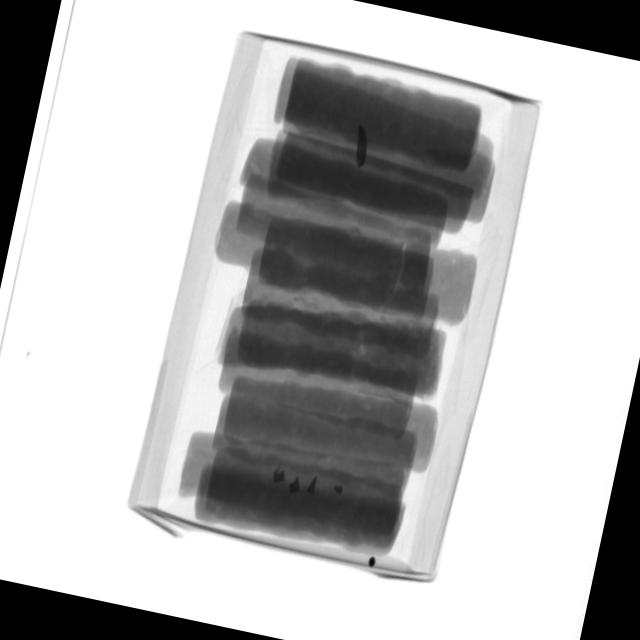ym: (349, 123, 376, 173), (273, 465, 288, 487), (288, 476, 303, 497), (307, 475, 319, 498), (369, 556, 378, 567), (333, 487, 343, 496)
